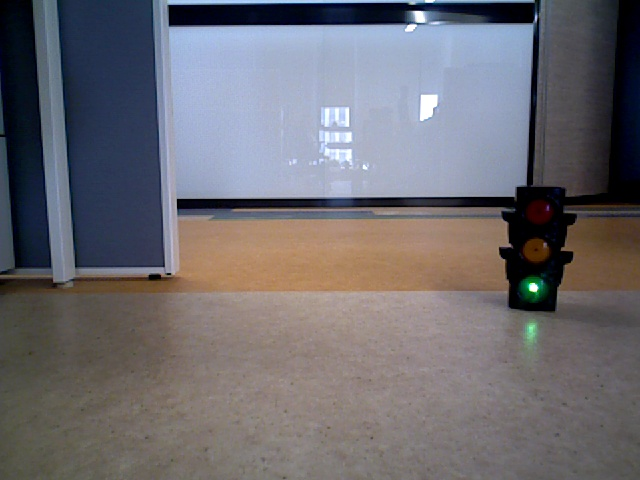green: (513, 191, 550, 306)
